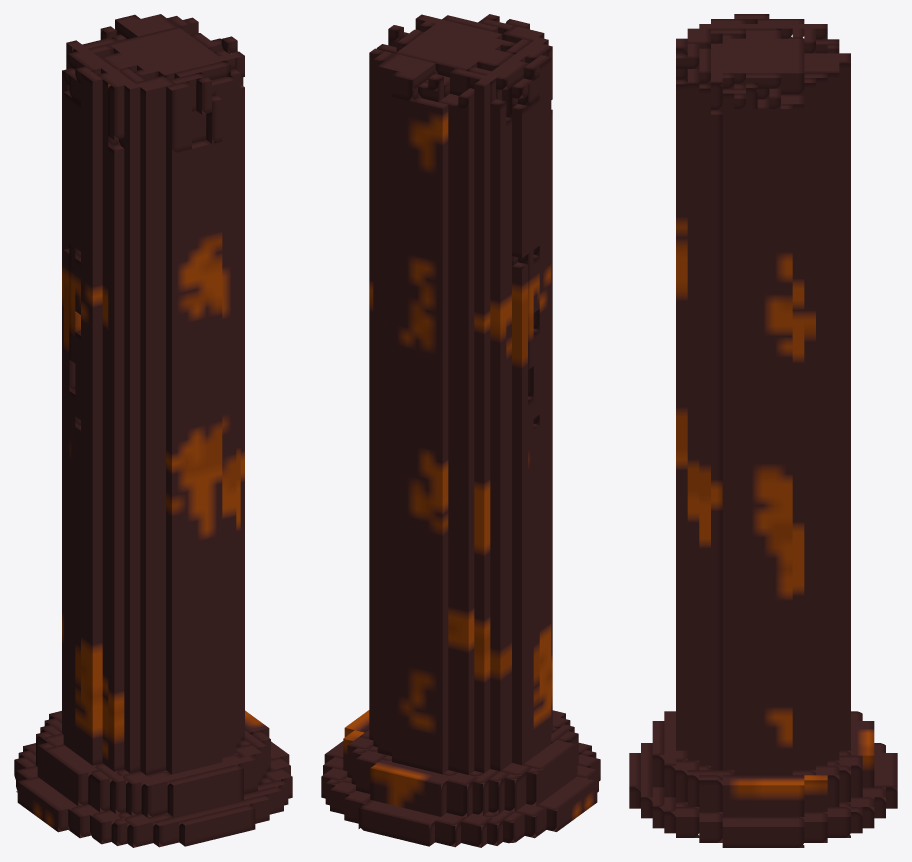
Rendered from stary_filar_most.dae.
3 renders of one model, left to right at view 1: azimuth 30°, elevation 25°; view 2: azimuth 150°, elevation 25°; view 3: azimuth 270°, elevation 25°, orthographic.
Parts seen in each view (by area): view 1: Content; view 2: Content; view 3: Content.
Part boxes in pixels (<box>): Content: <box>14,14,292,847</box>; Content: <box>321,14,600,847</box>; Content: <box>629,14,897,847</box>.
Bounding box in the file's own units: 23 × 70 × 23.
Materials: 1 (1 with a texture image).
